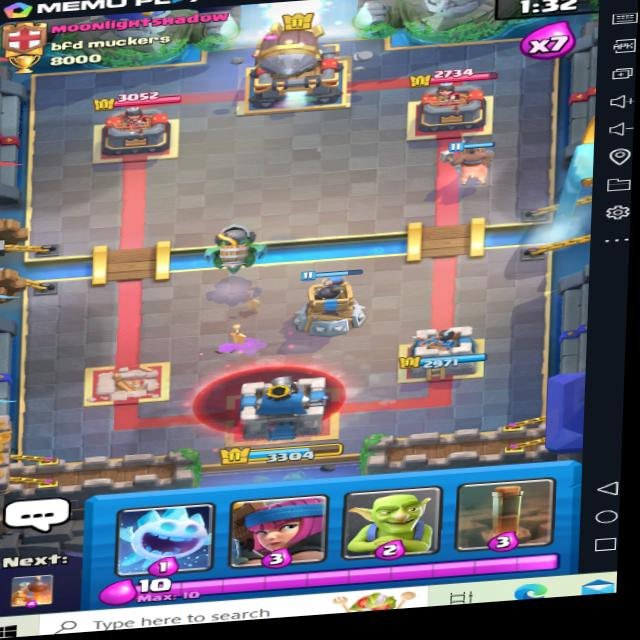rocket: (248, 18, 337, 77)
void: (194, 354, 348, 436)
